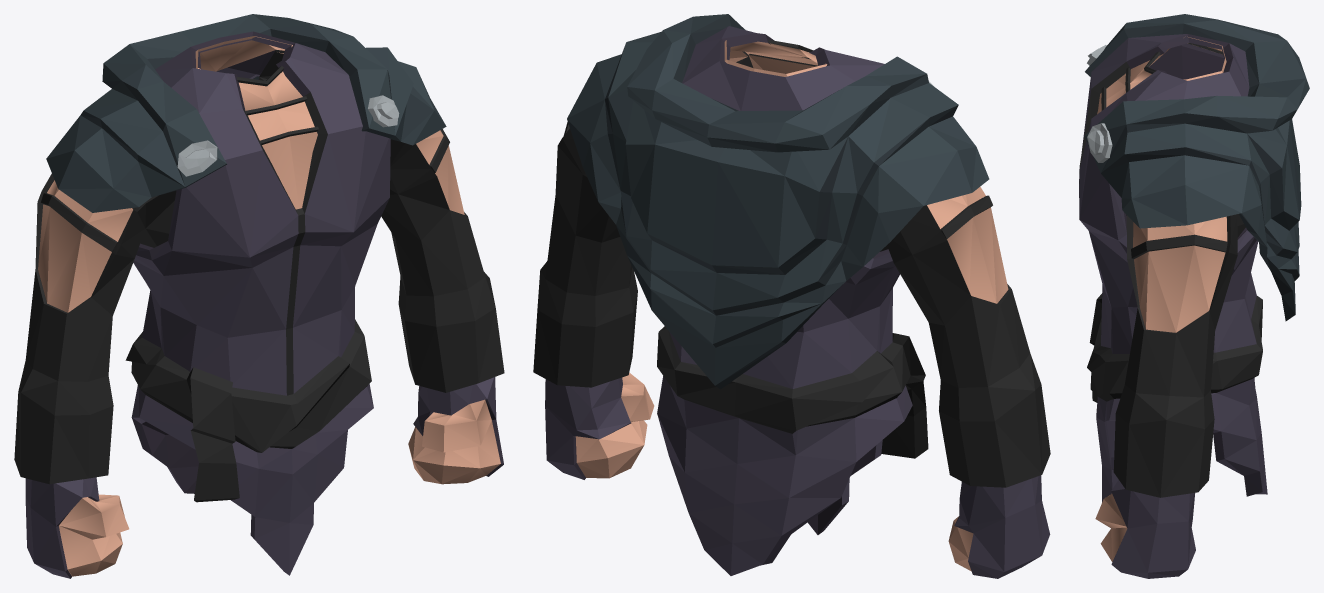
Rendered from RareWizardChestplate.dae.
3 renders of one model, left to right at view 1: azimuth 30°, elevation 25°; view 2: azimuth 150°, elevation 25°; view 3: azimuth 270°, elevation 25°, orthographic. The views are drawn at different scales.
Visible parts, largest first — view 1: Outfit; view 2: Outfit; view 3: Outfit.
Boxes of the visible parts, bbox=[...] form: Outfit: bbox=[14, 14, 504, 578]; Outfit: bbox=[533, 14, 1050, 578]; Outfit: bbox=[1079, 14, 1309, 578].
Bounding box in the file's own units: 5.28 × 2.36 × 5.16.
